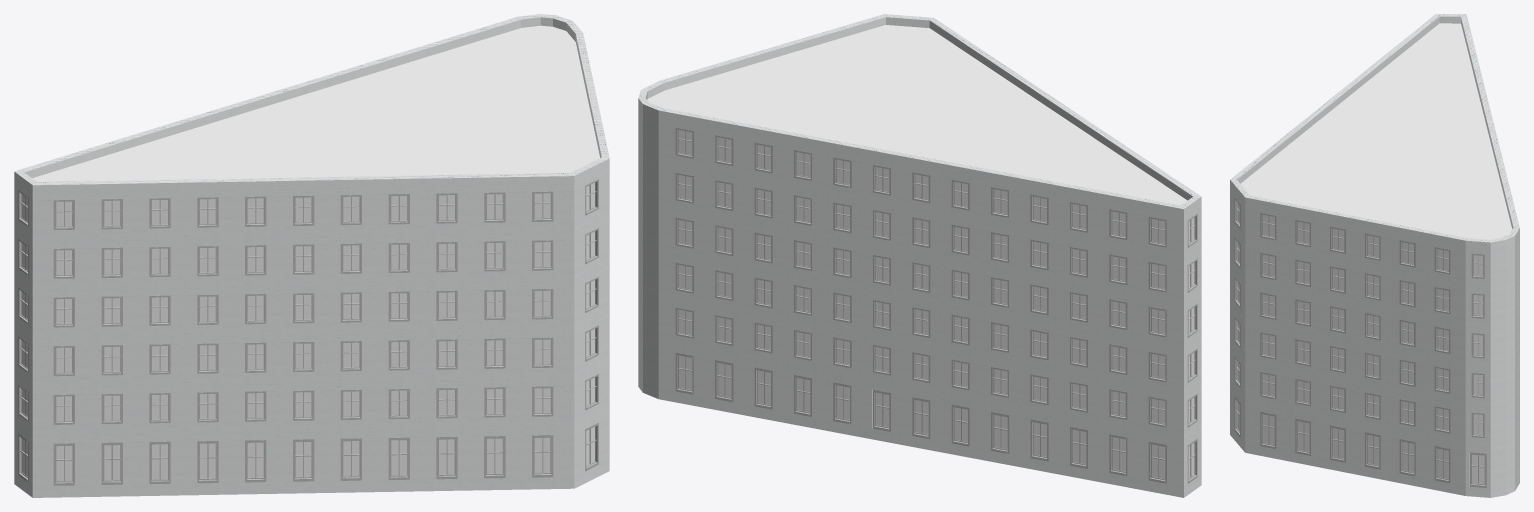
Rendered from clohc03mz03et4p02s0oijos5_0.glb.
3 renders of one model, left to right at view 1: azimuth 30°, elevation 25°; view 2: azimuth 150°, elevation 25°; view 3: azimuth 270°, elevation 25°, orthographic. The views are drawn at different scales.
Visible parts, largest first — view 1: mesh_Brick, mesh_CityEnginePBRShader, mesh_Glass, mesh_Rim; view 2: mesh_Brick, mesh_CityEnginePBRShader, mesh_Rim, mesh_Glass; view 3: mesh_Brick, mesh_CityEnginePBRShader, mesh_Rim, mesh_Glass.
Part boxes in pixels (box(x1,y1,x2,y2)): mesh_Brick: box(14, 14, 609, 497); mesh_CityEnginePBRShader: box(32, 25, 599, 181); mesh_Glass: box(22, 183, 594, 481); mesh_Rim: box(18, 179, 598, 485); mesh_Brick: box(638, 14, 1201, 497); mesh_CityEnginePBRShader: box(647, 25, 1187, 205); mesh_Rim: box(675, 128, 1197, 483); mesh_Glass: box(679, 130, 1194, 478); mesh_Brick: box(1230, 14, 1519, 497); mesh_CityEnginePBRShader: box(1240, 23, 1512, 239); mesh_Rim: box(1234, 198, 1486, 487); mesh_Glass: box(1237, 203, 1484, 483).
Size of the model in its own units: 43.3 by 22.55 by 23.19.
Materials: 4 (1 with a texture image).
